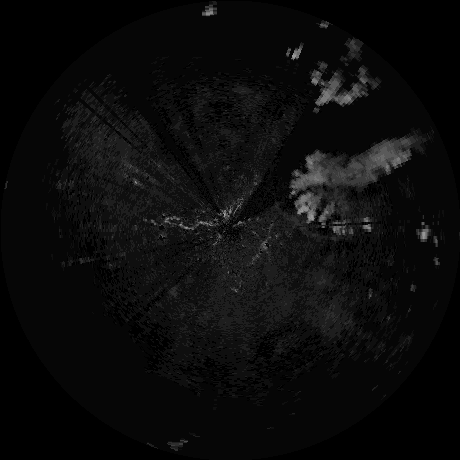frontgust: (277, 204, 338, 241)
